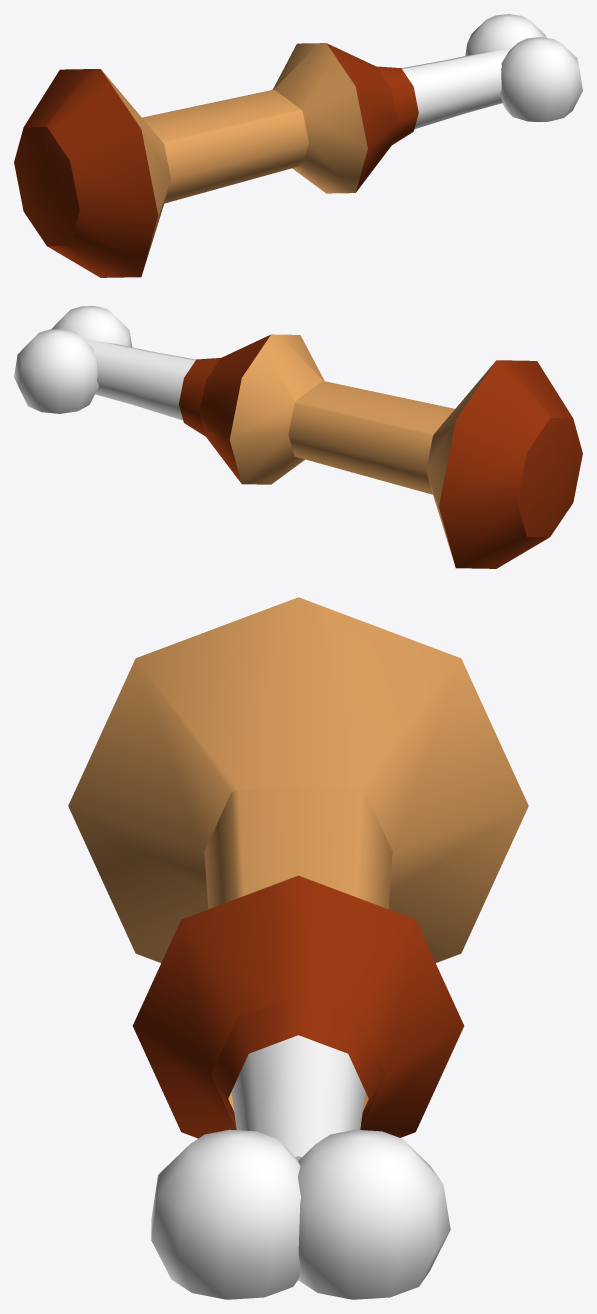
Rendered from Poulet_mange_final_forme.FBX.
The picture shows the model from 3 angles, top to bottom: view 1: azimuth 30°, elevation 25°; view 2: azimuth 150°, elevation 25°; view 3: azimuth 270°, elevation 25°; orthographic projection. The views are drawn at different scales.
Visible parts, largest first — view 1: Line001, Sphere001, Cylinder001, Sphere002; view 2: Line001, Sphere002, Cylinder001, Sphere001; view 3: Line001, Sphere001, Sphere002, Cylinder001.
Part boxes in pixels (bbox=[...]): Line001: bbox=[14, 43, 418, 277]; Sphere001: bbox=[500, 37, 582, 122]; Cylinder001: bbox=[401, 48, 511, 129]; Sphere002: bbox=[465, 14, 546, 55]; Line001: bbox=[179, 334, 582, 568]; Sphere002: bbox=[14, 329, 98, 413]; Cylinder001: bbox=[85, 339, 195, 420]; Sphere001: bbox=[51, 306, 132, 347]; Line001: bbox=[68, 597, 528, 1138]; Sphere001: bbox=[151, 1129, 300, 1299]; Sphere002: bbox=[297, 1129, 450, 1299]; Cylinder001: bbox=[231, 1035, 365, 1160].
Size of the model in its own units: 130 by 49.7 by 49.7.
